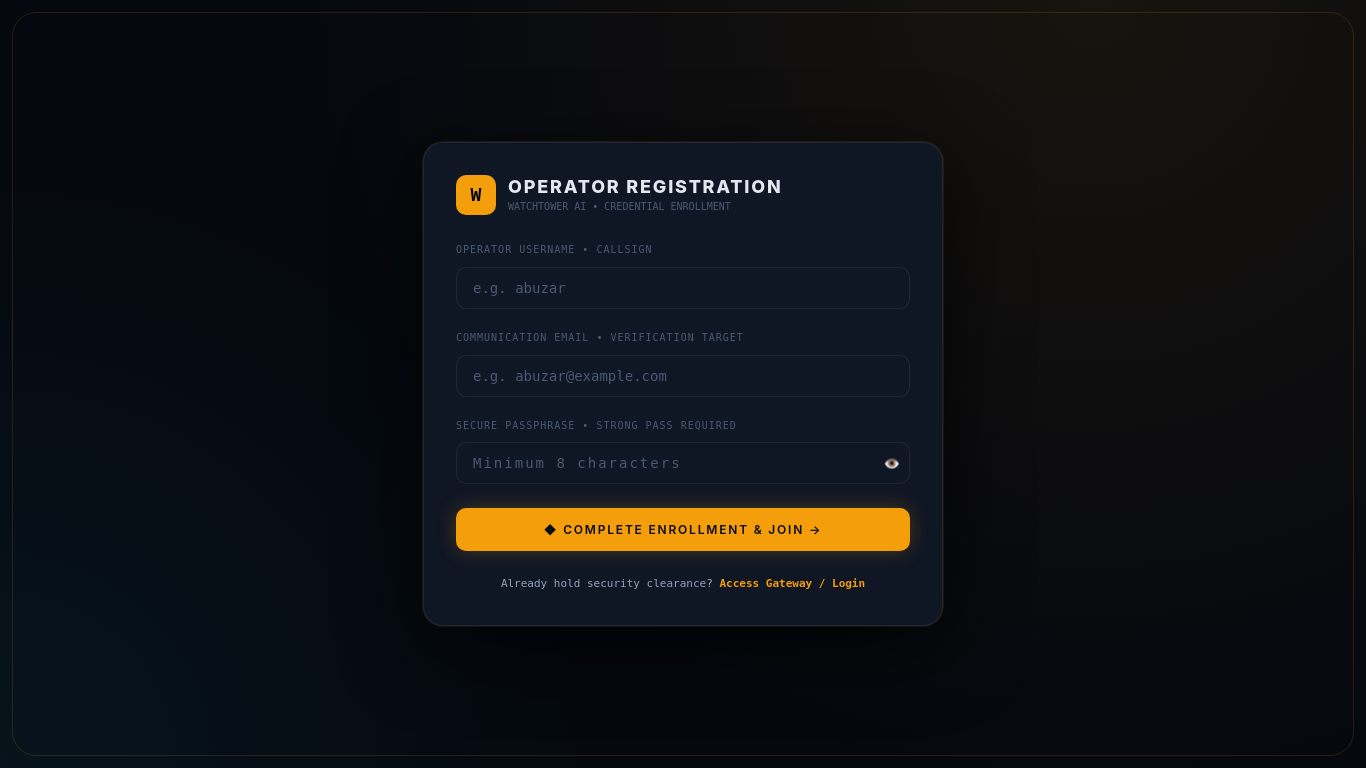
Test: Auth Integration Tests (MSW + React Testing Library) › Scenario 5: Signup pending verification — navigates to /verify-email/pending with email
Type "new_pending_user" into the field with test id "signup-username-input" at x=683, y=288, box [456,267,910,309]
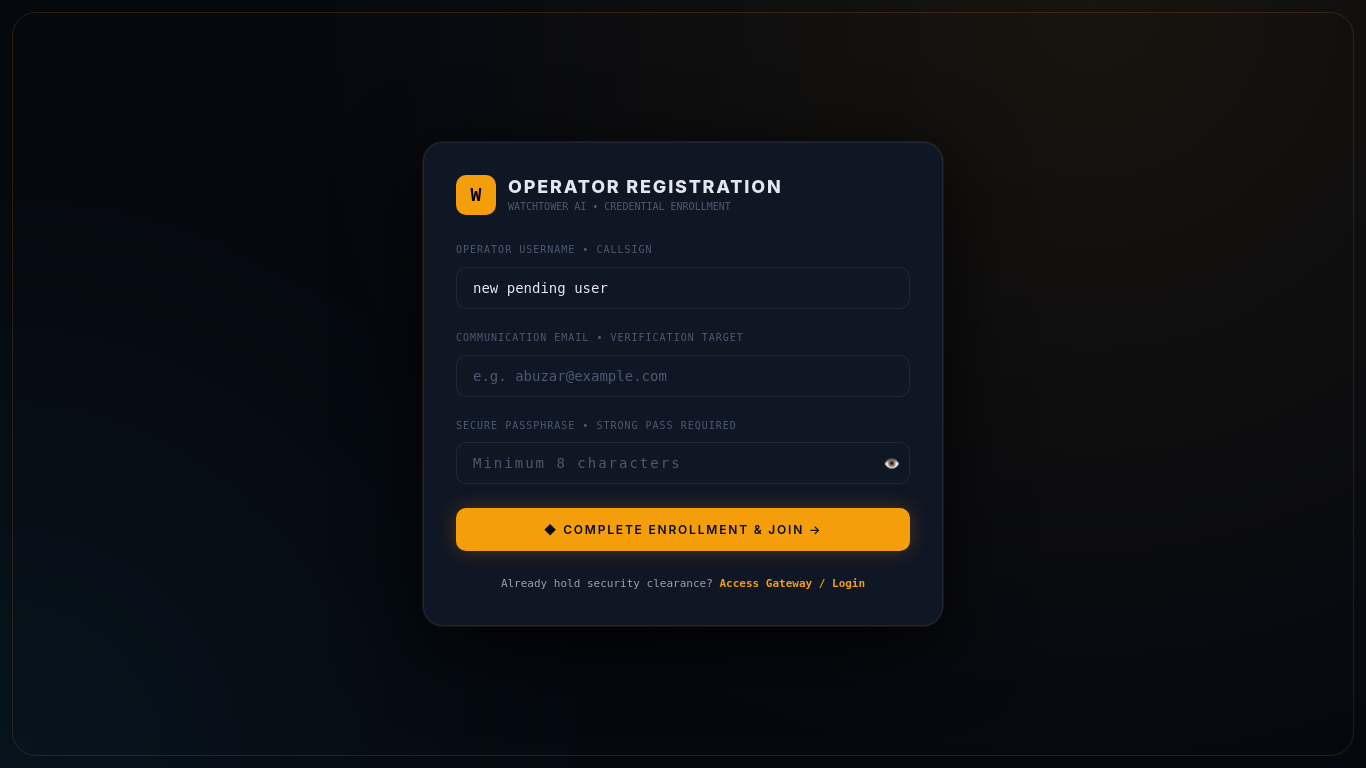
Type "pending@example.com" into the field with test id "signup-email-input" at x=683, y=376, box [456,354,910,396]
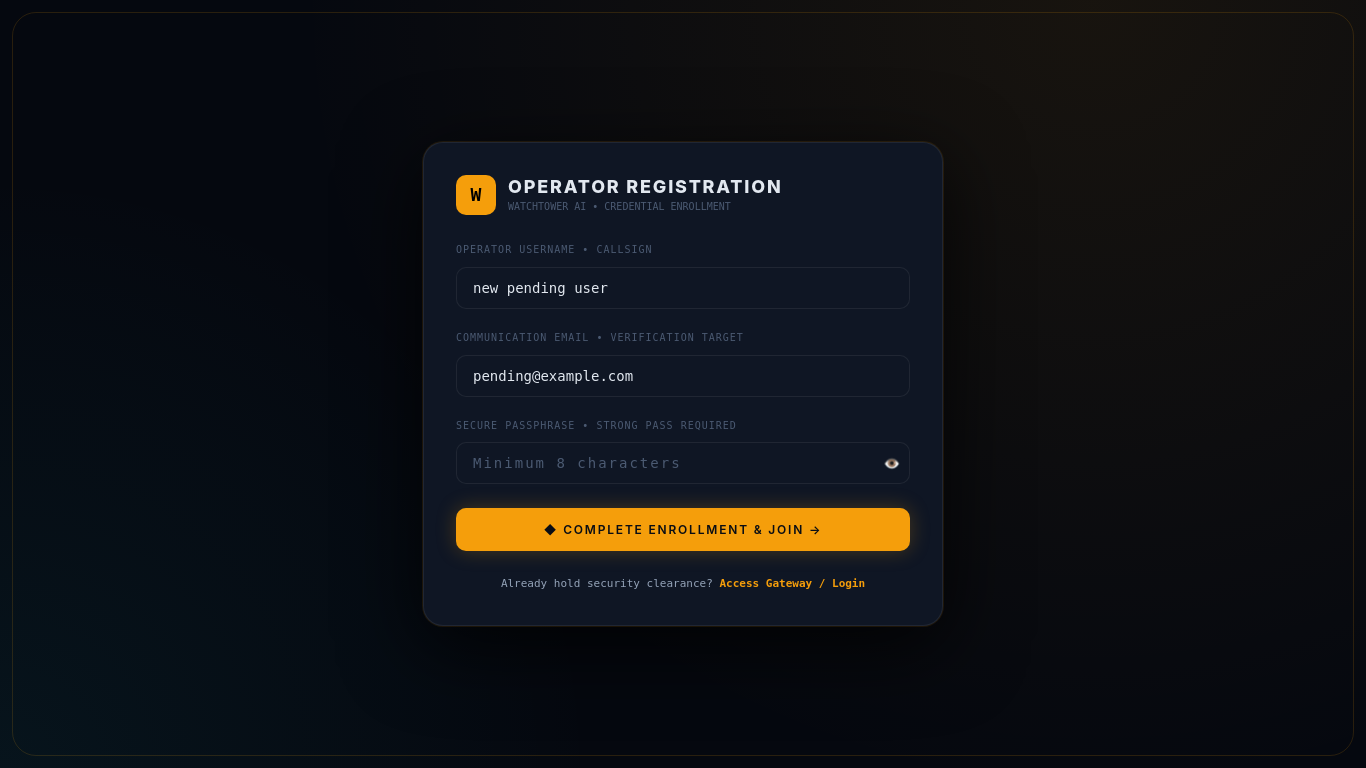
Type "StrongPassword123!" into the password field with test id "signup-password-input" at x=683, y=463, box [456,442,910,484]
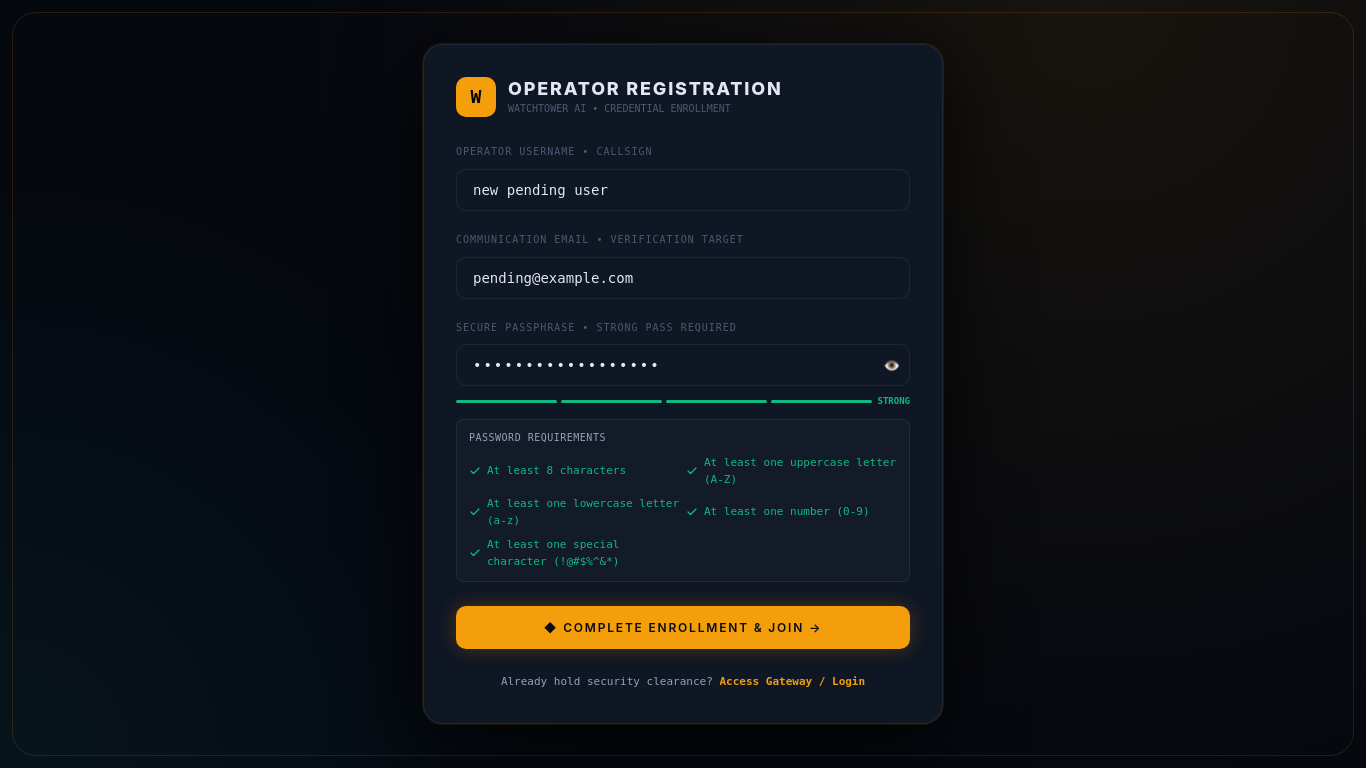
Click the button with test id "signup-submit-button" at x=683, y=628, box [456,606,910,649]
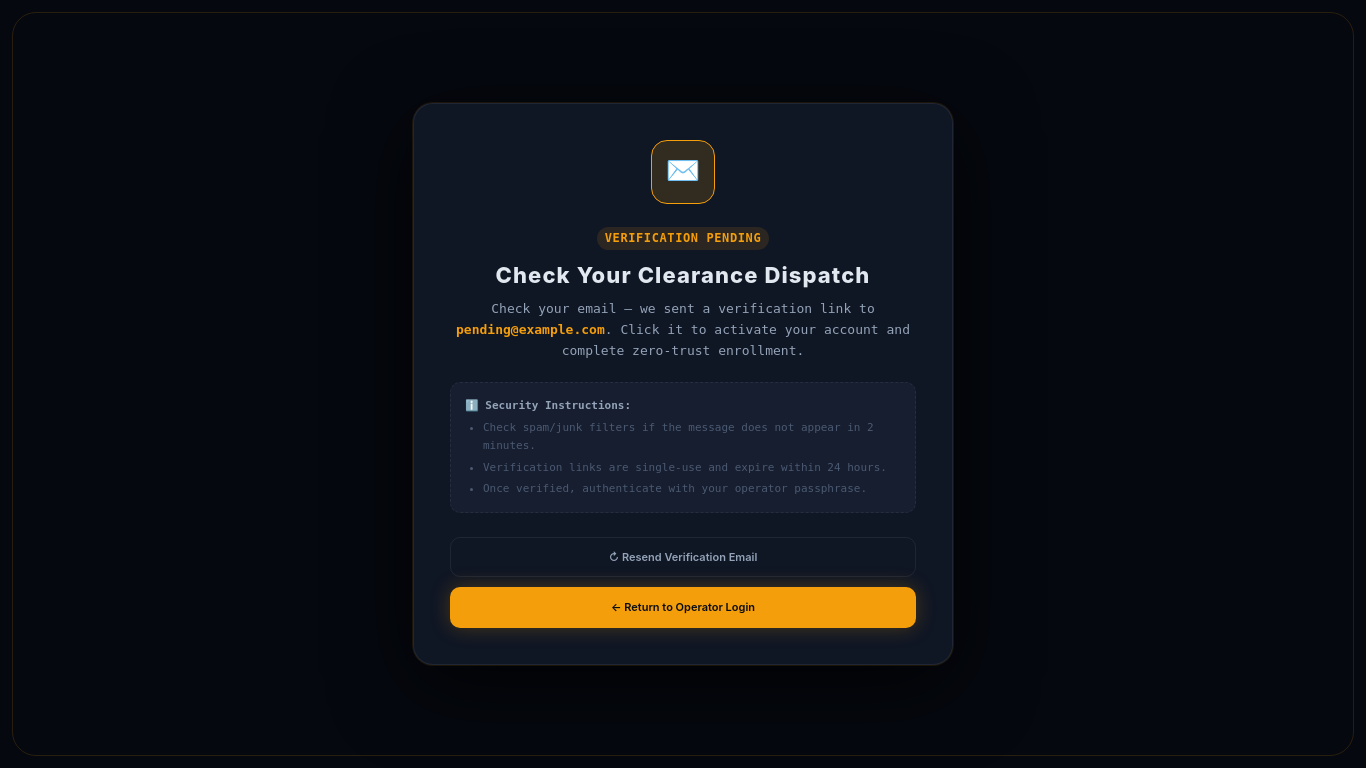
Now the heading "Check Your Clearance Dispatch" is shown, box [496,262,870,288]
Now the text "pending@example.com" is shown, box [456,322,605,337]
